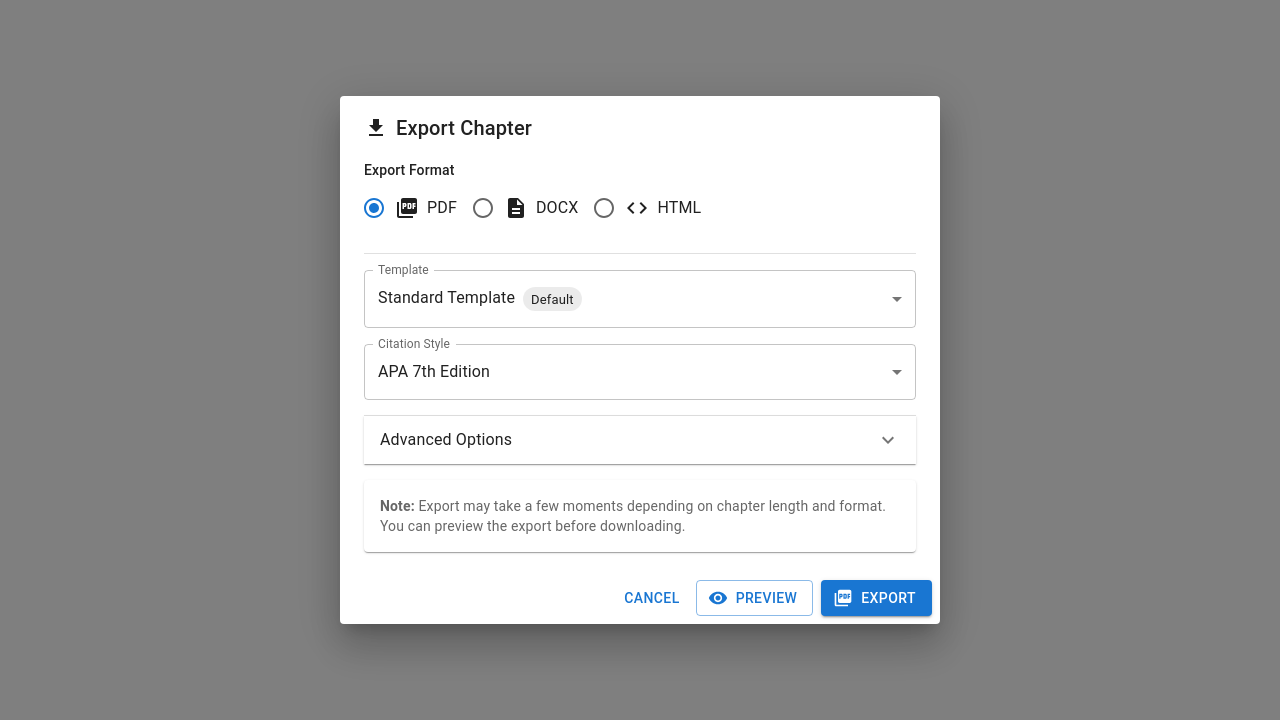
Test case: ExportDialog Component › Error Handling › should allow dismissing error message
Click the button "Export".
click(877, 598)  # box [821,580,932,616]
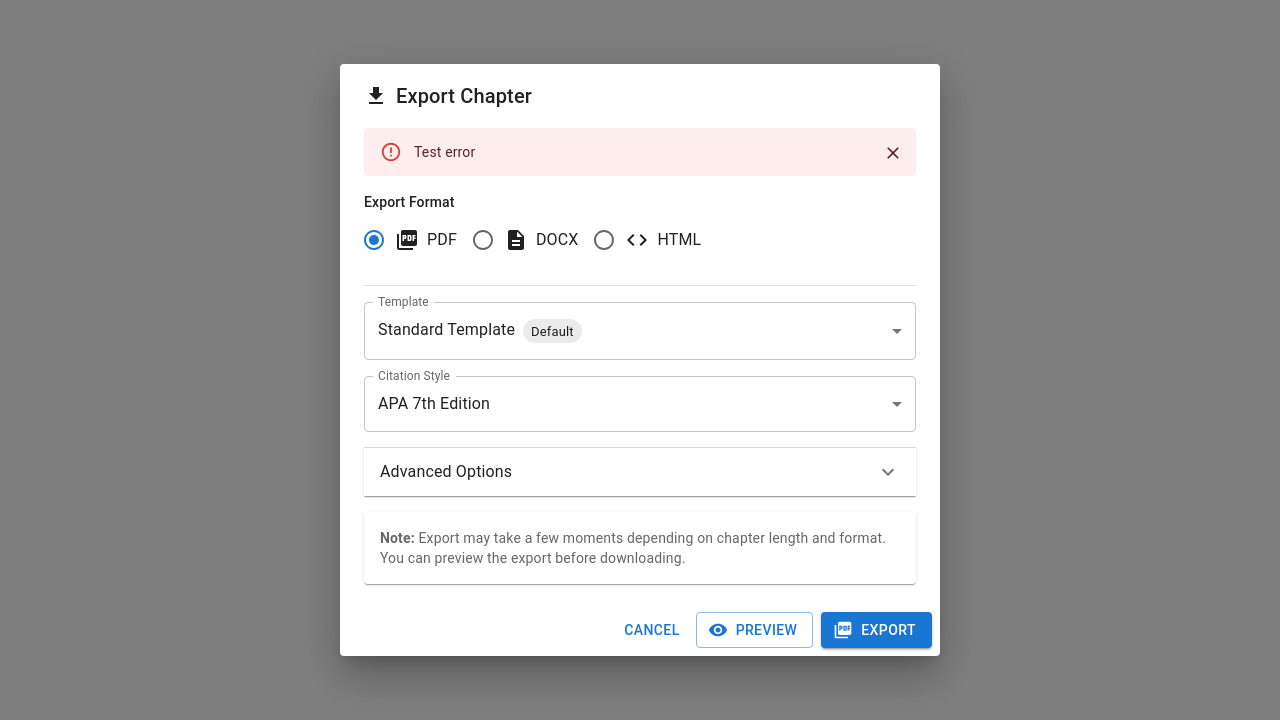
Now the text "Test error" is shown, box [414,144,475,160]
MUI Alert close button - find by aria-label
Click the button named "close".
click(893, 153)  # box [878,138,908,168]
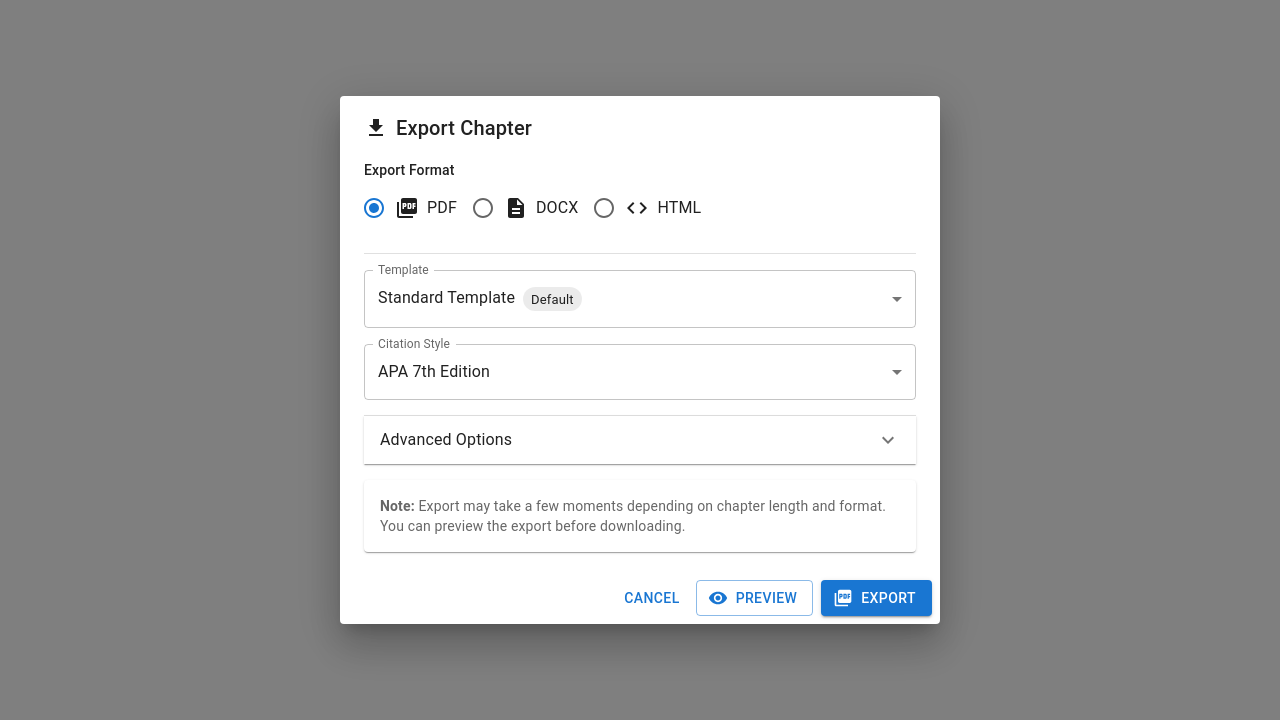
Now the text "Test error" is gone
